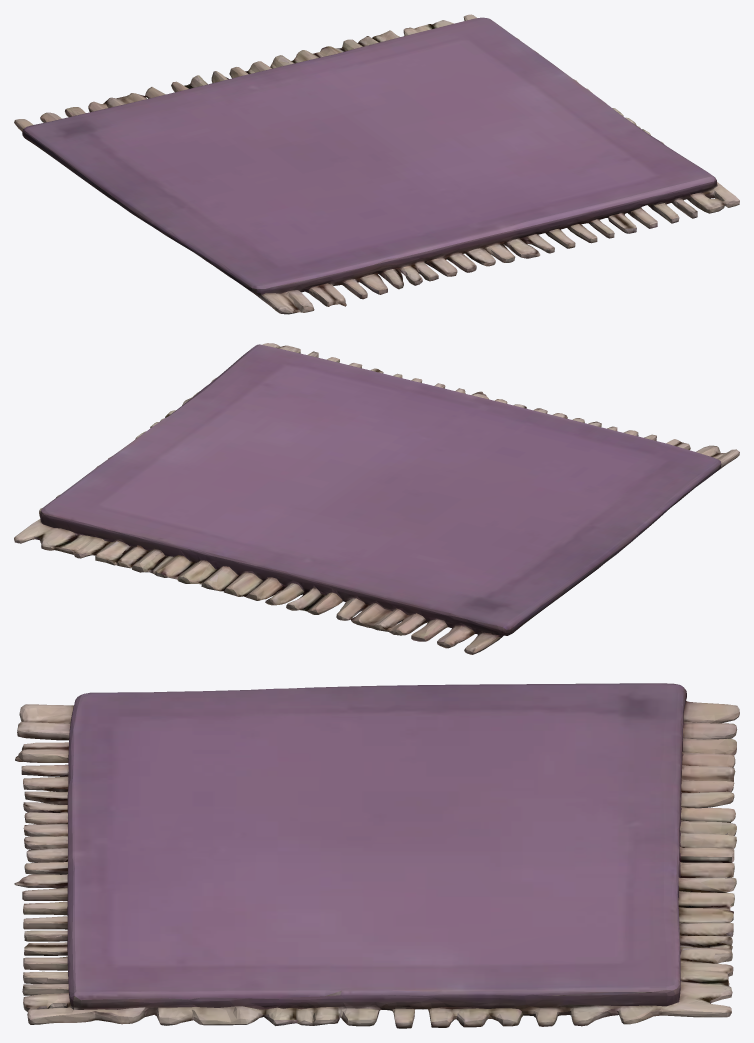
Rendered from rug.glb.
3 views of the same model, one above another, from view 1: azimuth 30°, elevation 25°; view 2: azimuth 150°, elevation 25°; view 3: azimuth 270°, elevation 25° (orthographic). The views are drawn at different scales.
Visible parts, largest first — view 1: world; view 2: world; view 3: world.
Boxes of the visible parts, left/top/right/bottom form: world: left=14, top=14, right=739, bottom=314; world: left=14, top=343, right=739, bottom=654; world: left=14, top=683, right=739, bottom=1028.
Size of the model in its own units: 1 by 0.0455 by 0.9606.
1 material, 1 textured.
